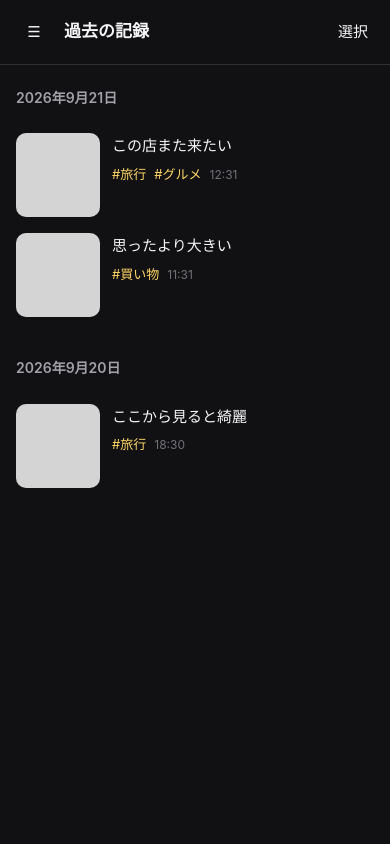
Scenario: 複数選択して削除 › 確認をキャンセルすると何も消えない
Expected: the text "この店また来たい" is shown, [112,136,232,155]
Click the button "選択".
click(353, 32)  # box [328,10,378,54]
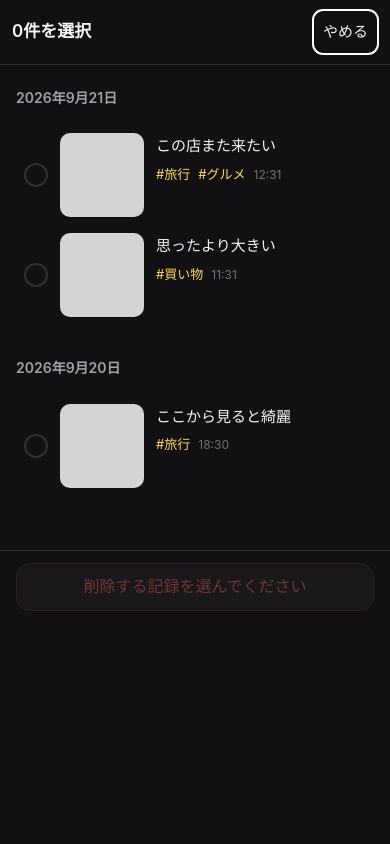
Click the checkbox labelled "この店また来たい #旅行#グルメ12:31".
click(102, 175)  # box [16,125,374,225]
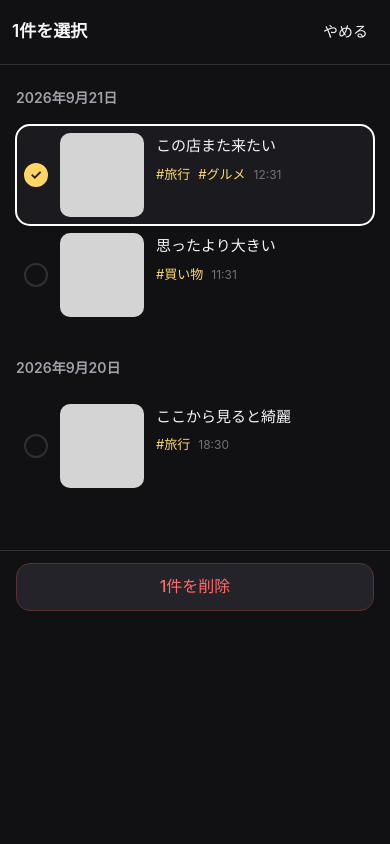
Click the button "1件を削除".
click(195, 587)  # box [16,563,374,611]
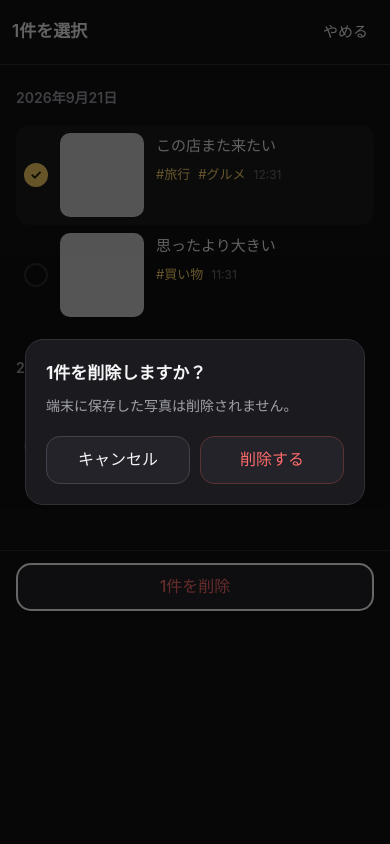
Click the button "キャンセル".
click(118, 460)  # box [46,436,190,484]
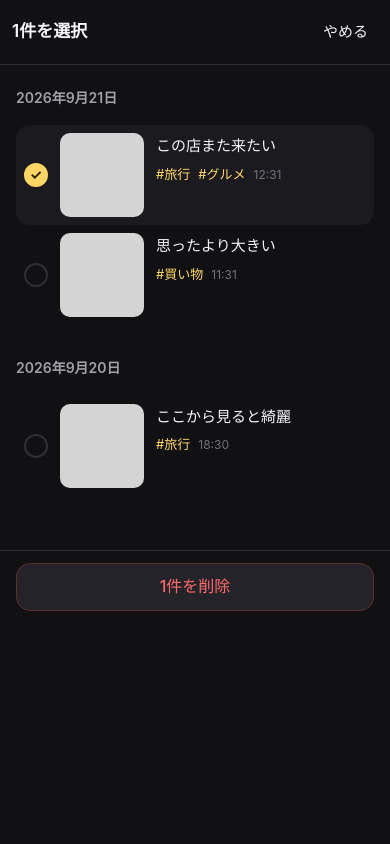
Result: the dialog is gone
